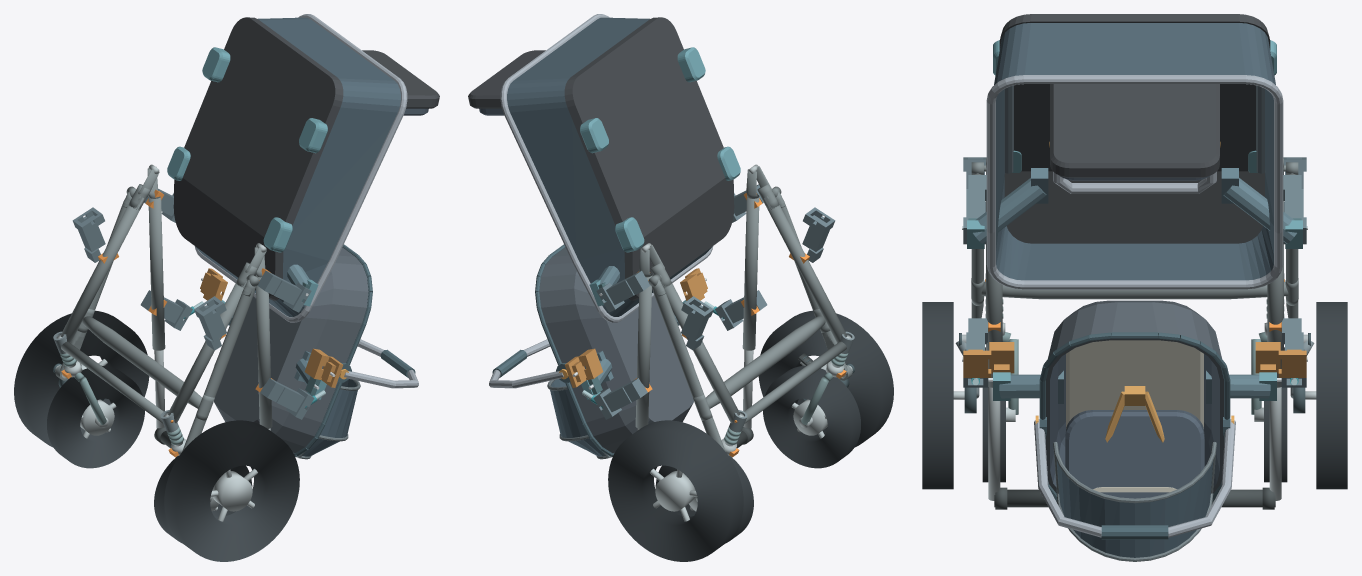
Rendered from D22_w650_state3_wheel_L.glb.
The picture shows the model from 3 angles, left to right: view 1: azimuth 30°, elevation 25°; view 2: azimuth 150°, elevation 25°; view 3: azimuth 270°, elevation 25°; orthographic projection. The views are drawn at different scales.
Parts seen in each view (by area): view 1: D22_Lower, D22_Upper, RL_tire.008, FR_tire.008, RR_tire.008, V46_rearbar.009, main_upper_1.009, main_lower_1.009, V46_rear_leg_-1.009, main_upper_-1.009, main_lower_-1.009, front_fixed_round_tube.008 (+13 smaller); view 2: D22_Lower, D22_Upper, RR_tire.008, FL_tire.008, RL_tire.008, V46_rearbar.009, main_upper_-1.009, main_lower_-1.009, V46_rear_leg_1.009, main_upper_1.009, main_lower_1.009, front_fixed_round_tube.008 (+13 smaller); view 3: D22_Lower, D22_Upper, RL_tire.008, RR_tire.008, D22_Lower_Mount_M, V46_rearbar.009, D22_Upper_Mount_H, D02_WideAdapter_H_-1, D02_WideAdapter_H_1, round_handle.008, handle_slider_1.008, handle_slider_-1.008 (+10 smaller).
Boxes of the visible parts, x1,y1,x2,y2 form: D22_Lower: [167, 14, 439, 322]; D22_Upper: [214, 244, 418, 459]; RL_tire.008: [164, 420, 299, 561]; FR_tire.008: [47, 365, 144, 468]; RR_tire.008: [14, 310, 149, 447]; V46_rearbar.009: [82, 316, 201, 408]; main_upper_1.009: [148, 196, 165, 350]; main_lower_1.009: [60, 197, 143, 342]; V46_rear_leg_-1.009: [182, 286, 255, 451]; main_upper_-1.009: [255, 275, 272, 428]; main_lower_-1.009: [168, 281, 246, 423]; front_fixed_round_tube.008: [61, 341, 163, 423]; D22_Lower: [468, 14, 740, 322]; D22_Upper: [489, 244, 693, 459]; RR_tire.008: [608, 420, 743, 561]; FL_tire.008: [763, 365, 860, 468]; RL_tire.008: [758, 310, 893, 447]; V46_rearbar.009: [706, 316, 825, 408]; main_upper_-1.009: [742, 196, 759, 350]; main_lower_-1.009: [764, 197, 847, 342]; V46_rear_leg_1.009: [652, 286, 725, 451]; main_upper_1.009: [635, 275, 652, 428]; main_lower_1.009: [661, 281, 739, 423]; front_fixed_round_tube.008: [744, 341, 846, 423]; D22_Lower: [986, 14, 1283, 289]; D22_Upper: [1034, 300, 1235, 561]; RL_tire.008: [922, 302, 953, 489]; RR_tire.008: [1316, 302, 1347, 489]; D22_Lower_Mount_M: [962, 168, 1307, 248]; V46_rearbar.009: [981, 281, 1288, 299]; D22_Upper_Mount_H: [988, 370, 1281, 403]; D02_WideAdapter_H_-1: [962, 342, 1014, 377]; D02_WideAdapter_H_1: [1255, 342, 1307, 377]; round_handle.008: [994, 489, 1275, 507]; handle_slider_1.008: [1269, 387, 1281, 500]; handle_slider_-1.008: [988, 387, 1000, 500].
Size of the model in its own units: 0.9247 by 1.17 by 0.8171.
